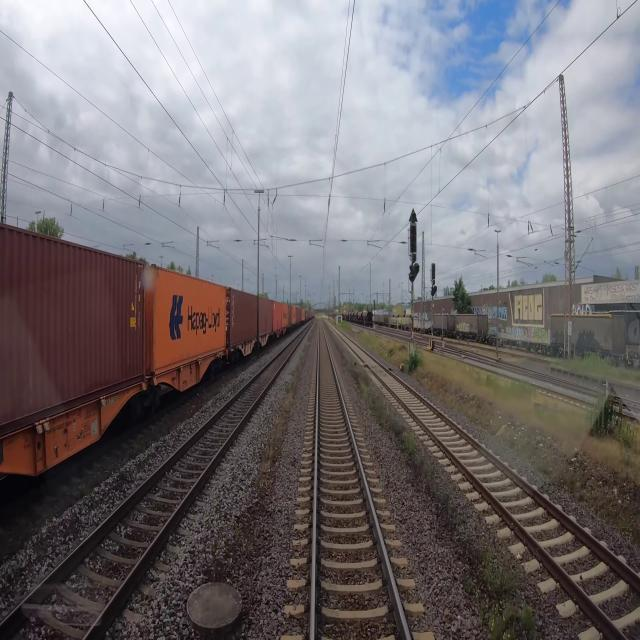Plant: (326, 321, 639, 639), (356, 379, 543, 639)
